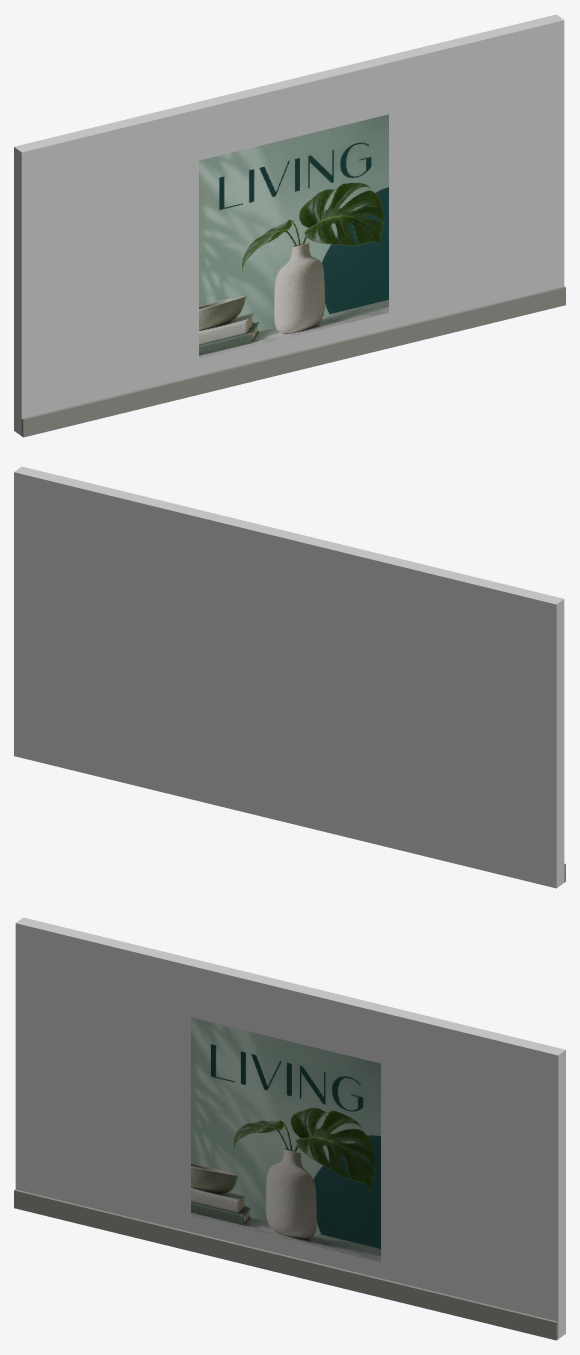
The model's file is top-w3.fbx.
3 renders of one model, top to bottom at view 1: azimuth 30°, elevation 25°; view 2: azimuth 150°, elevation 25°; view 3: azimuth 330°, elevation 25°, orthographic.
Visible parts, largest first — view 1: a2008/0/top-w3; view 2: a2008/0/top-w3; view 3: a2008/0/top-w3.
Part boxes in pixels (x1,y1,x2,y2): a2008/0/top-w3: (14, 14, 565, 437); a2008/0/top-w3: (14, 466, 565, 888); a2008/0/top-w3: (14, 917, 565, 1340).
Bounding box in the file's own units: 8 × 4 × 0.24.
